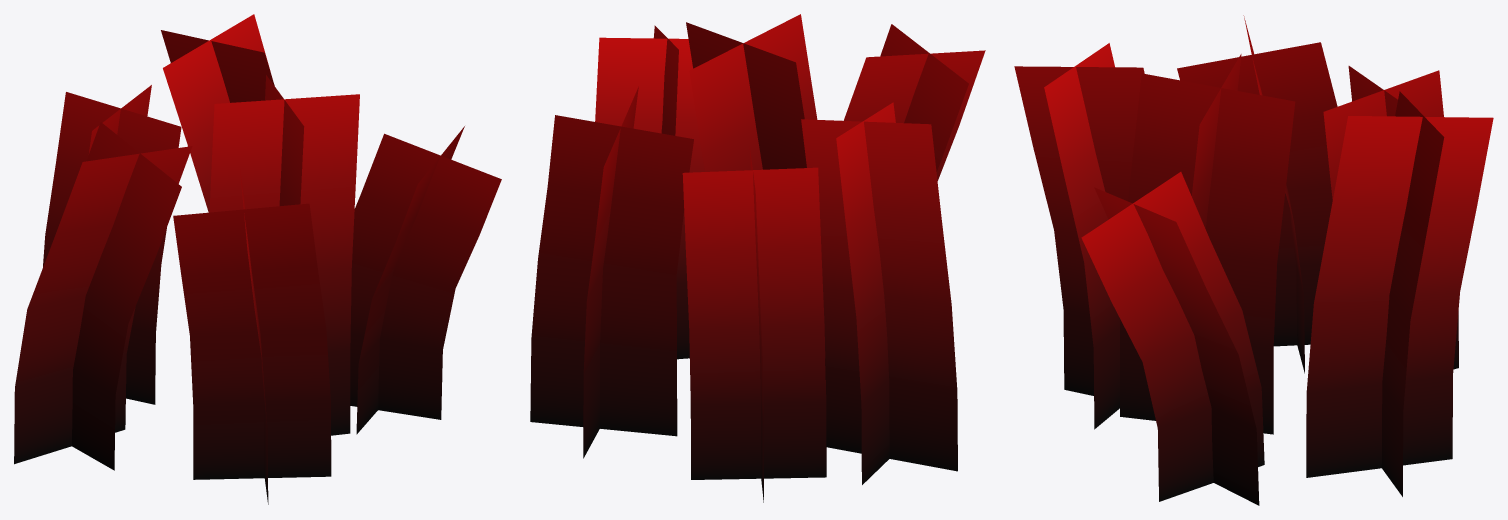
File: Flowers01.glb
3 views of the same model, side by side, from view 1: azimuth 30°, elevation 25°; view 2: azimuth 150°, elevation 25°; view 3: azimuth 270°, elevation 25° (orthographic). The views are drawn at different scales.
Parts seen in each view (by area): view 1: Flowers01_LOD0; view 2: Flowers01_LOD0; view 3: Flowers01_LOD0.
Boxes of the visible parts, left/top/right/bottom form: Flowers01_LOD0: left=14, top=14, right=501, bottom=504; Flowers01_LOD0: left=530, top=14, right=985, bottom=502; Flowers01_LOD0: left=1014, top=15, right=1493, bottom=505.
Bounding box in the file's own units: 0.5786 × 0.4654 × 0.5713.
